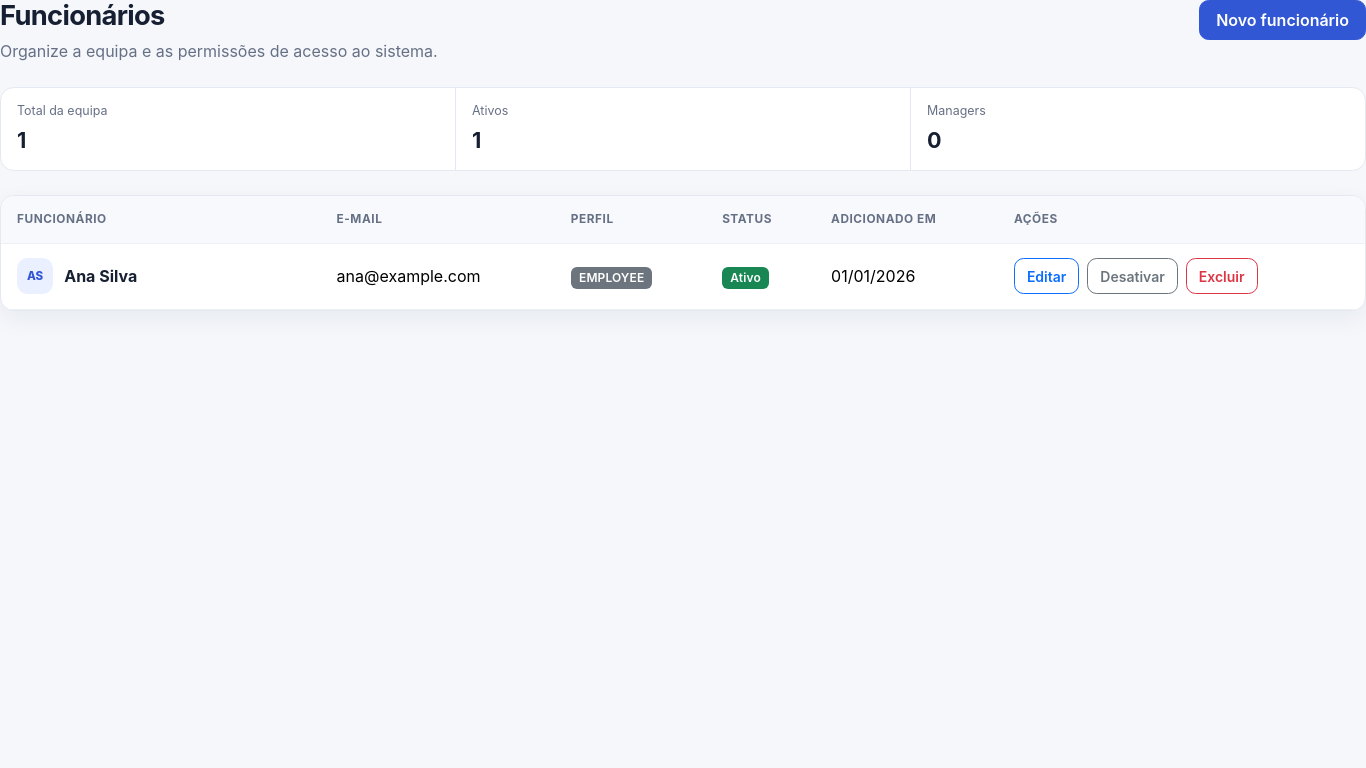
EmployeesPage › does not delete when the user cancels the confirmation
The width and height of the screenshot is (1366, 768).
Expected: the table is shown, 1,196 -> 1365,310
Click the button "Excluir" at (1222, 276), box 1186,258 -> 1258,294
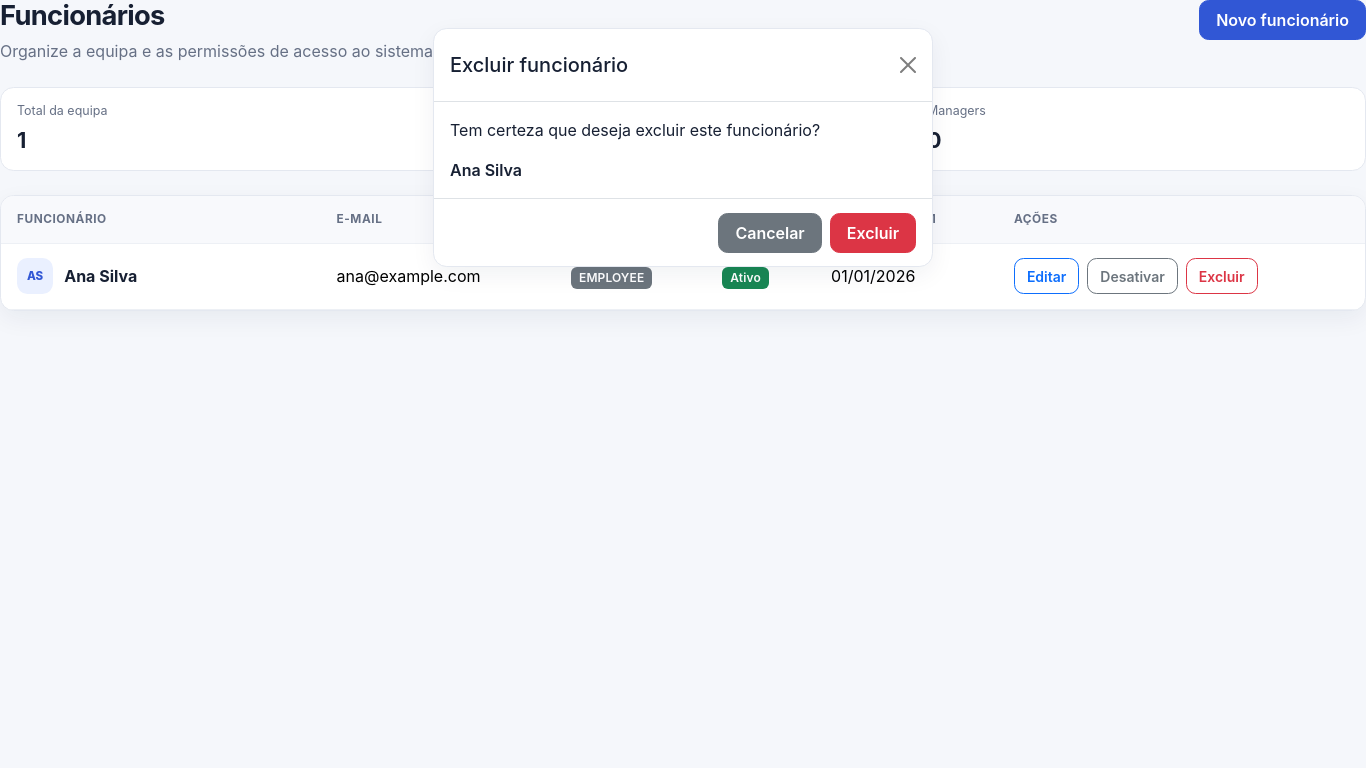
Click the button "Cancelar" at (770, 233), box 718,213 -> 822,253
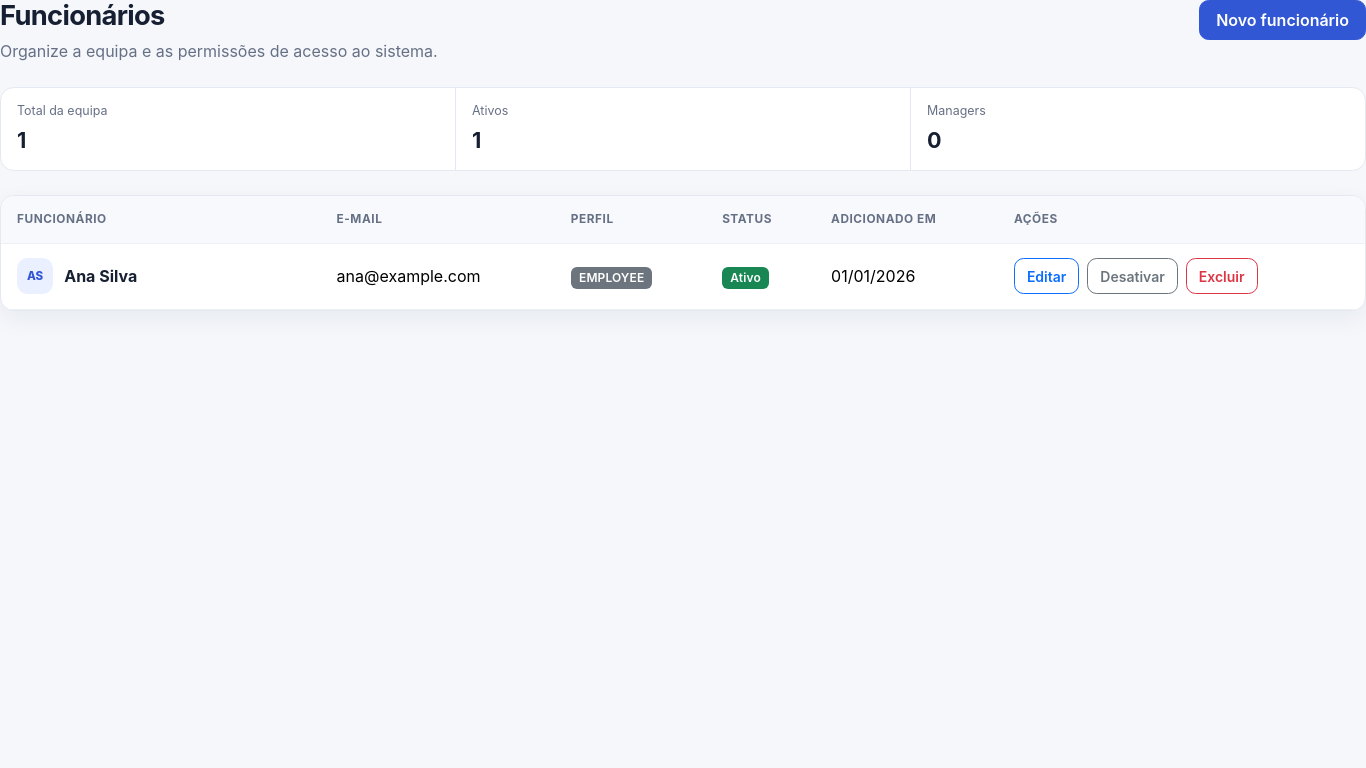
Expected: the dialog is gone
